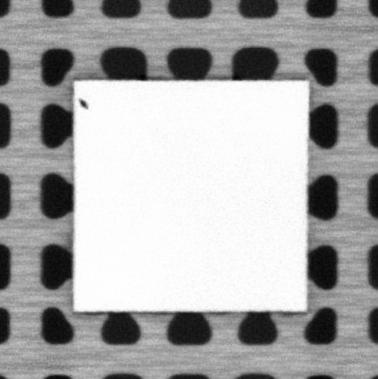DIE_INK: (76, 95, 91, 111)
